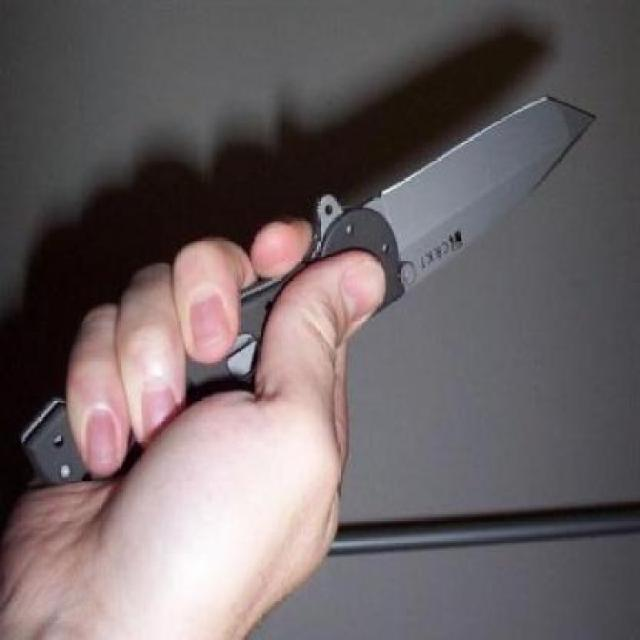knife: (21, 96, 594, 484)
